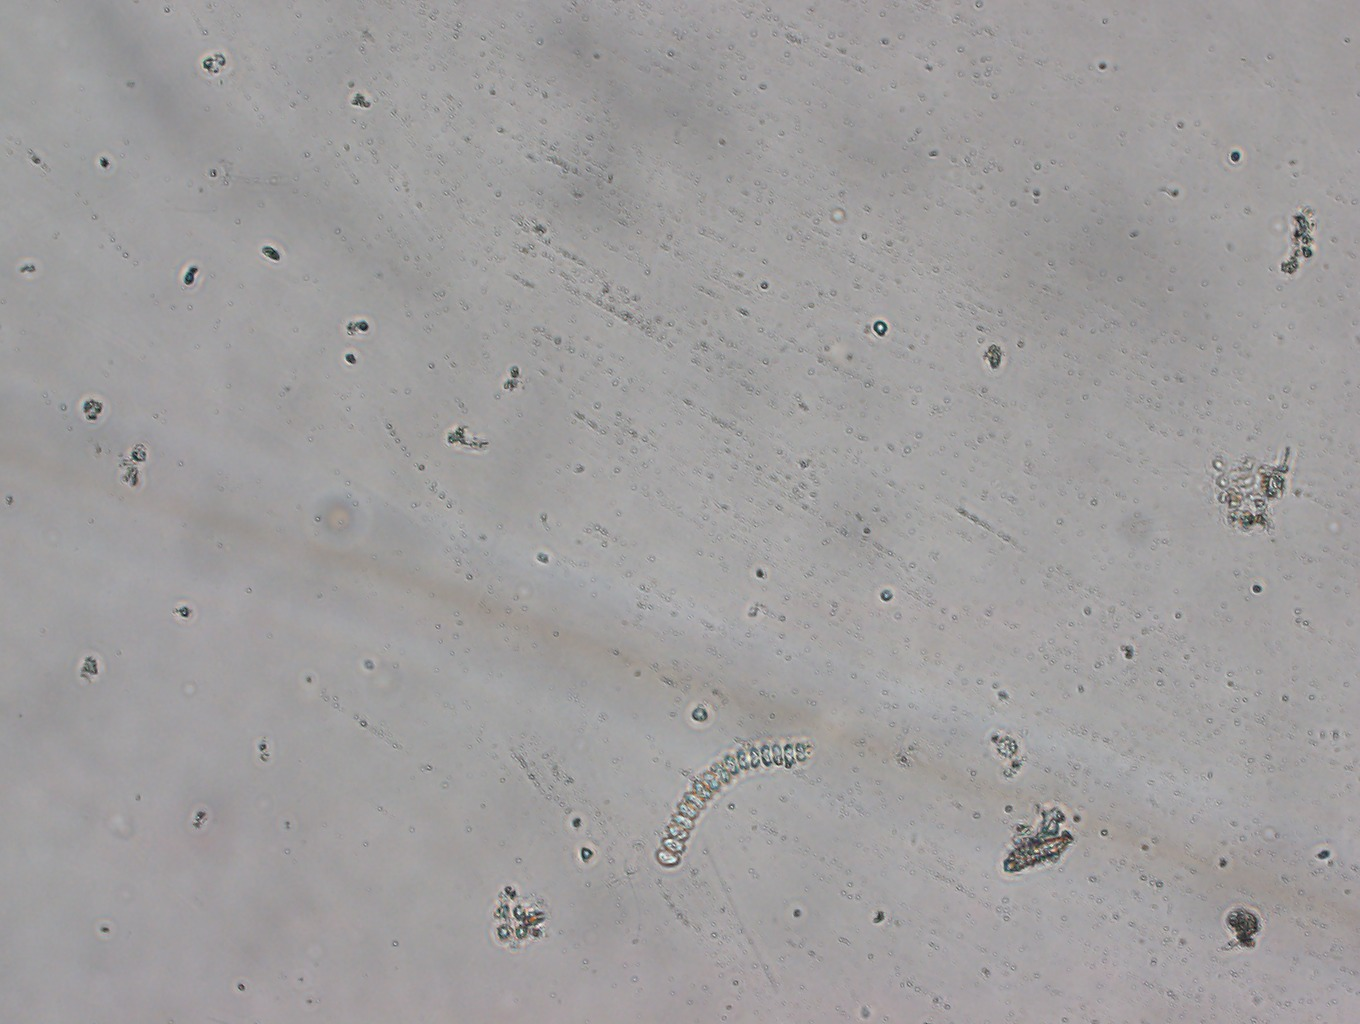skeletonema: (646, 728, 813, 876)
